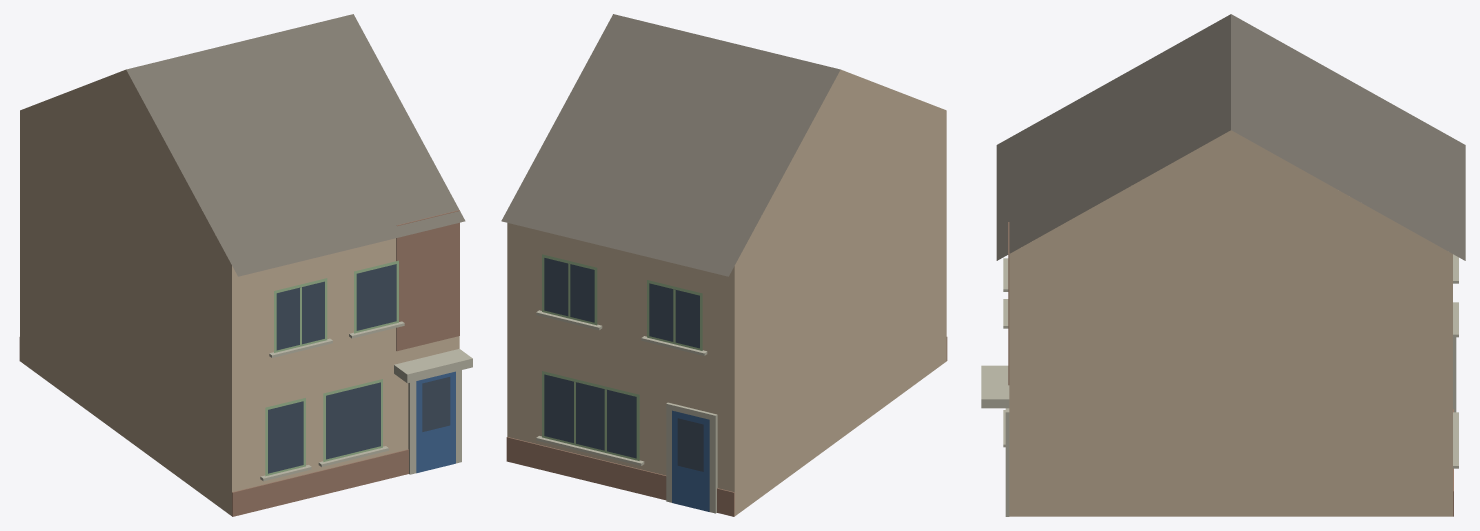
The model's file is zo-rb-pair-door__buff__2__gable__long__solid__mirror.glb.
3 renders of one model, left to right at view 1: azimuth 30°, elevation 25°; view 2: azimuth 150°, elevation 25°; view 3: azimuth 270°, elevation 25°, orthographic. The views are drawn at different scales.
Parts seen in each view (by area): view 1: zo-rb-pair-door__buff__2__gable__long__solid__mirror; view 2: zo-rb-pair-door__buff__2__gable__long__solid__mirror; view 3: zo-rb-pair-door__buff__2__gable__long__solid__mirror.
Part boxes in pixels (x1,y1,x2,y2): zo-rb-pair-door__buff__2__gable__long__solid__mirror: (19,14,472,516); zo-rb-pair-door__buff__2__gable__long__solid__mirror: (501,14,947,516); zo-rb-pair-door__buff__2__gable__long__solid__mirror: (981,14,1465,516).
Size of the model in its own units: 5.42 by 8.39 by 9.52.
